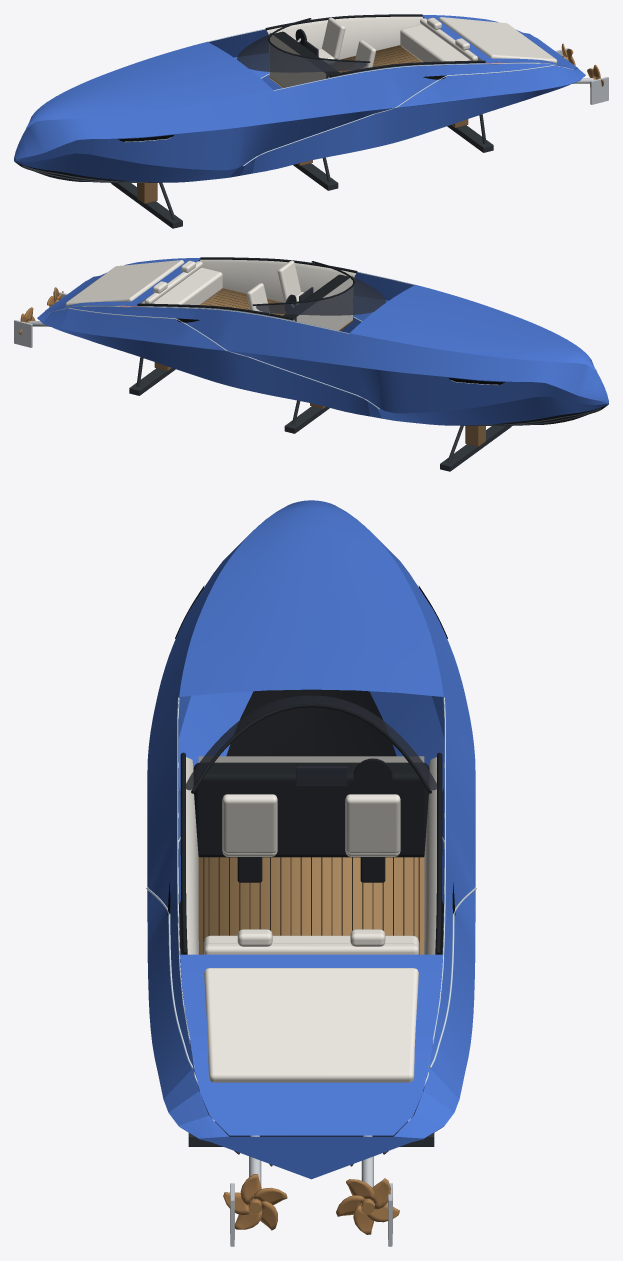
File: speedboot.glb
3 renders of one model, top to bottom at view 1: azimuth 30°, elevation 25°; view 2: azimuth 150°, elevation 25°; view 3: azimuth 270°, elevation 25°, orthographic. The views are drawn at different scales.
Visible parts, largest first — view 1: Romp, Voordekhuid, Kuipwand.001, Zonnebedkussen, Ruit, Kuipschot.001, Achterbank, Achterdekhuid, Kuipvloer, Bokbalk.002, Rugleuning, Dashboard (+12 smaller); view 2: Romp, Voordekhuid, Kuipwand, Zonnebedkussen, Ruit, Kuipschot.001, Achterbank, Achterdekhuid, Kuipvloer, Bokbalk.002, Rugleuning.001, Dashboard (+12 smaller); view 3: Romp, Voordekhuid, Zonnebedkussen, Achterdekhuid, Kuipvloer, Dashboard, Onderwaterschip, Spiegel, Rugleuning, Rugleuning.001, Kuipnaden, Ruit (+12 smaller).
Boxes of the visible parts, <box> form: Romp: <box>14,16,585,182</box>; Voordekhuid: <box>14,42,273,157</box>; Kuipwand.001: <box>267,16,422,72</box>; Zonnebedkussen: <box>438,17,557,64</box>; Ruit: <box>237,33,366,72</box>; Kuipschot.001: <box>270,33,326,87</box>; Achterbank: <box>400,24,470,61</box>; Achterdekhuid: <box>422,14,577,69</box>; Kuipvloer: <box>270,45,422,87</box>; Bokbalk.002: <box>111,183,182,228</box>; Rugleuning: <box>322,17,345,59</box>; Dashboard: <box>269,31,339,78</box>; Romp: <box>37,259,608,425</box>; Voordekhuid: <box>349,285,608,400</box>; Kuipwand: <box>200,259,355,315</box>; Zonnebedkussen: <box>65,260,184,307</box>; Ruit: <box>256,276,385,315</box>; Kuipschot.001: <box>296,276,352,330</box>; Achterbank: <box>152,267,222,304</box>; Achterdekhuid: <box>45,257,200,312</box>; Kuipvloer: <box>200,288,352,330</box>; Bokbalk.002: <box>440,426,511,471</box>; Rugleuning.001: <box>277,260,300,302</box>; Dashboard: <box>283,274,353,321</box>; Romp: <box>147,505,475,1138</box>; Voordekhuid: <box>179,500,443,696</box>; Zonnebedkussen: <box>204,968,418,1082</box>; Achterdekhuid: <box>180,954,442,1135</box>; Kuipvloer: <box>198,857,424,954</box>; Dashboard: <box>193,762,429,857</box>; Onderwaterschip: <box>179,689,443,1136</box>; Spiegel: <box>199,1136,423,1179</box>; Rugleuning: <box>345,794,400,853</box>; Rugleuning.001: <box>222,794,277,853</box>; Kuipnaden: <box>203,857,419,954</box>; Ruit: <box>185,695,437,790</box>.
Size of the model in its own units: 12.95 by 2.79 by 3.22.
